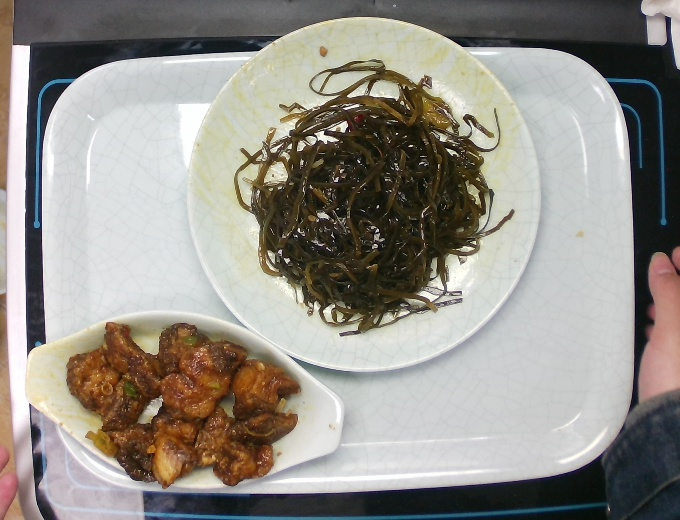JYsf-Da_Yuan_Pan: (183, 15, 544, 375)
JYsf-Yu_Pan: (22, 307, 348, 490)
